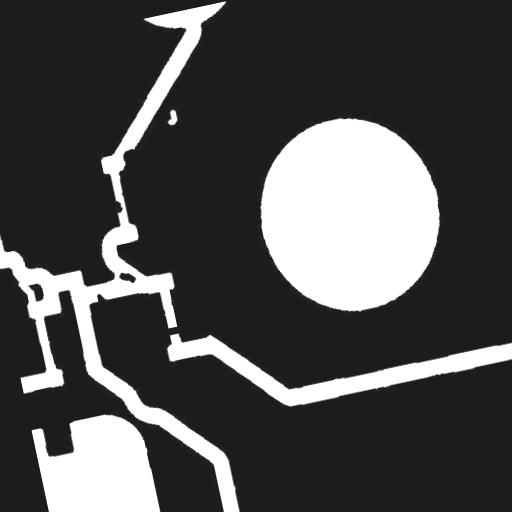copper: (108, 260, 144, 294)
open: (8, 268, 45, 316)
pin-hole: (156, 100, 186, 134)
short: (156, 316, 192, 344)
spur: (112, 138, 147, 174), (102, 190, 132, 222), (86, 283, 116, 313)
